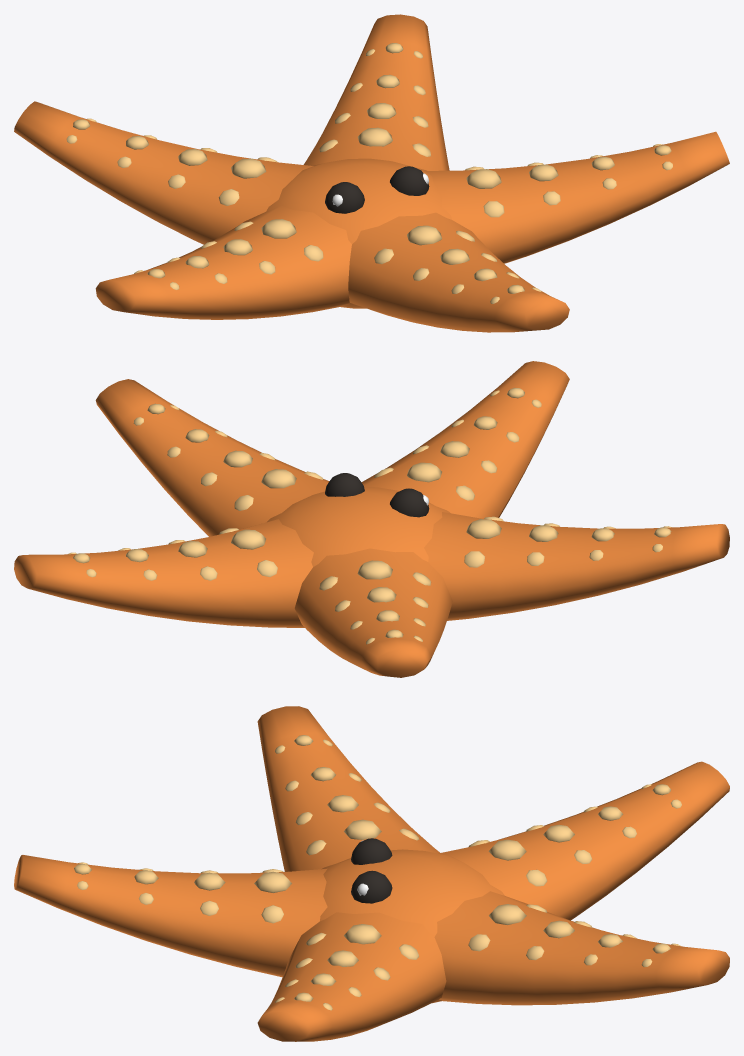
The model's file is sea-starfish.glb.
3 renders of one model, top to bottom at view 1: azimuth 30°, elevation 25°; view 2: azimuth 150°, elevation 25°; view 3: azimuth 270°, elevation 25°, orthographic. The views are drawn at different scales.
Parts seen in each view (by area): view 1: star; view 2: star; view 3: star.
Boxes of the visible parts, bbox=[...] form: star: bbox=[14, 14, 729, 332]; star: bbox=[14, 361, 729, 677]; star: bbox=[14, 706, 729, 1041].
Bounding box in the file's own units: 0.2929 × 0.0563 × 0.2796.
